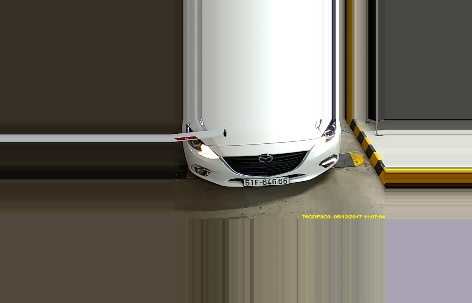plate: (241, 175, 292, 187)
